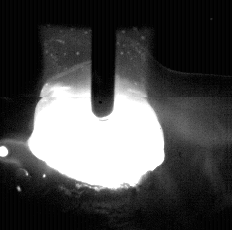arame: (92, 0, 116, 121)
poca: (26, 0, 165, 230)
